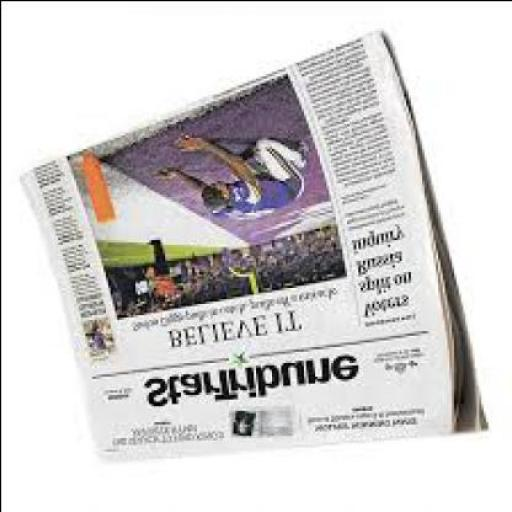paper: (14, 32, 487, 464)
